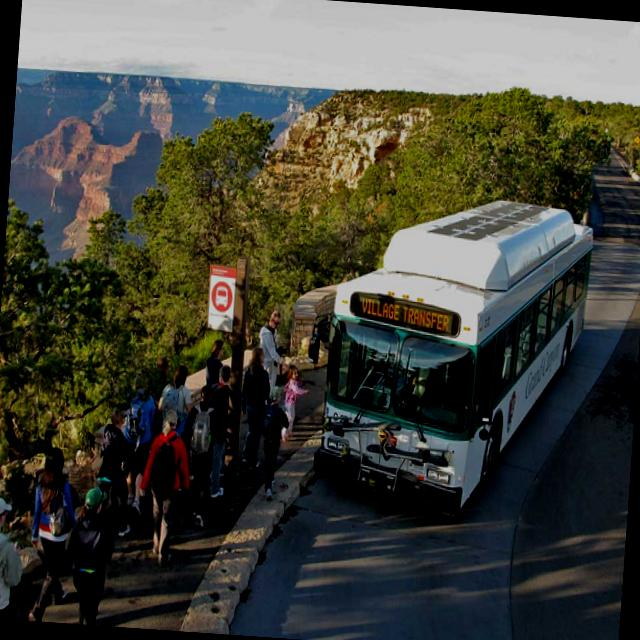Vehicle: (316, 183, 596, 522)
